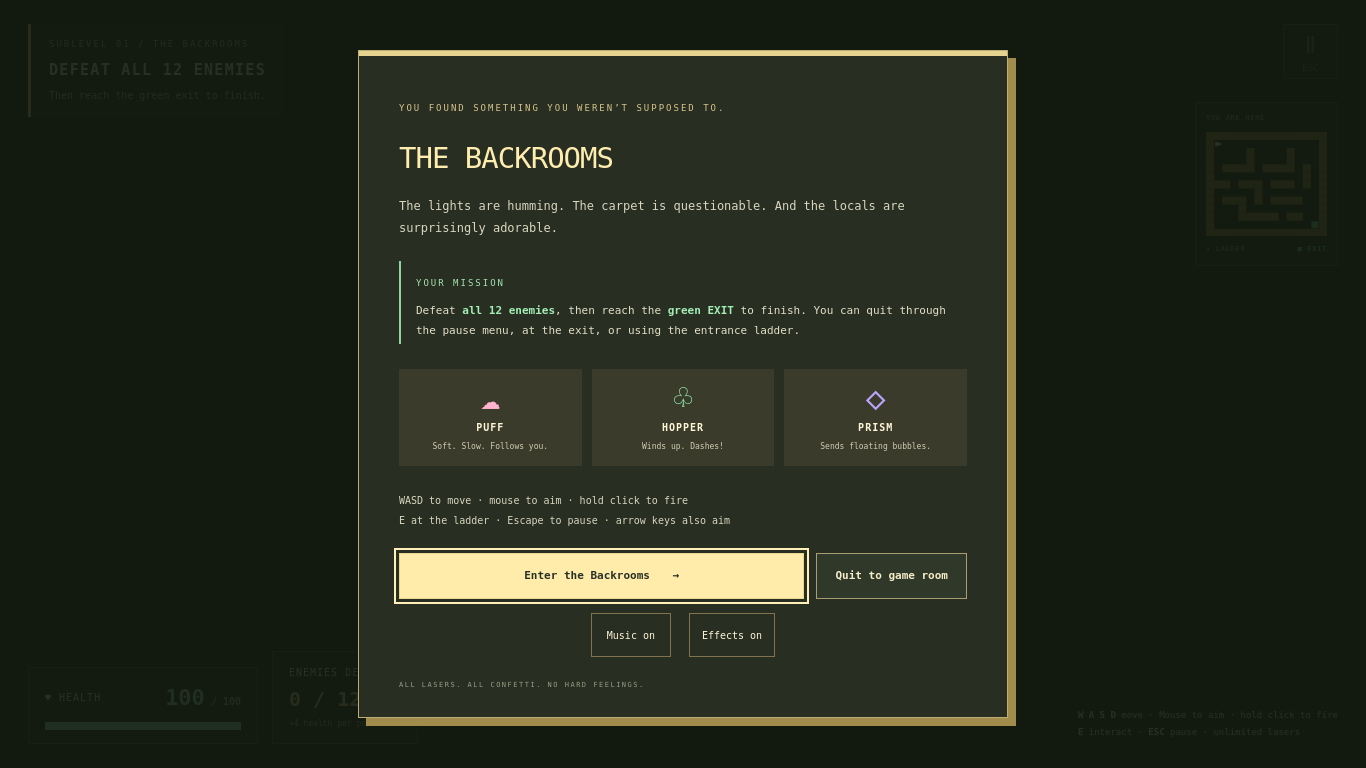
Test case: fire presses between animation frames › offers retry and quit after Bernard catches the player
This screenshot has width=1366, height=768.
What coordinates should you click on to do the following:
click the button "Enter the Backrooms →"
I would click on:
 (602, 576)
Its box is 399,552 -> 804,599.
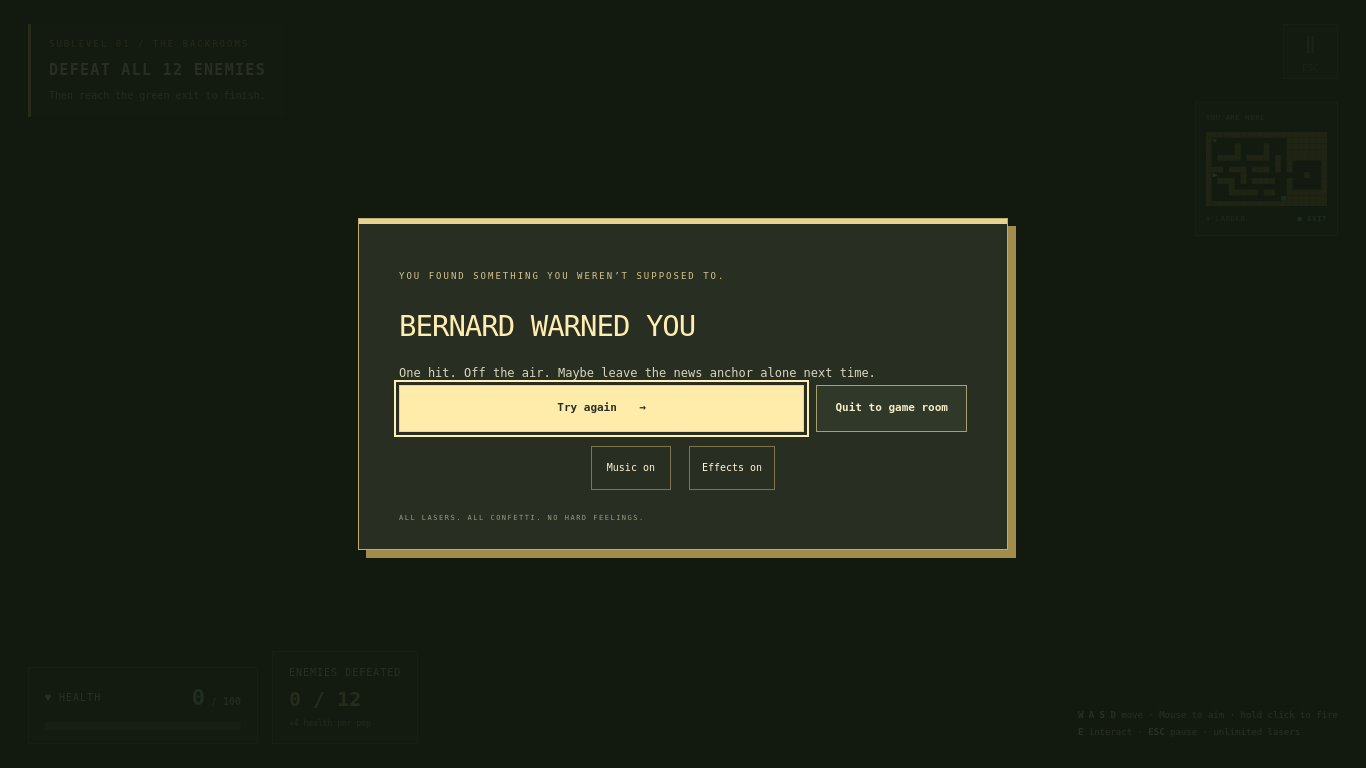
Expected: the button "Quit to game room" is shown, 816,385 -> 967,432
Result: the heading "BERNARD WARNED YOU" is shown at 399,309 -> 695,343
What coordinates should you click on to do the following:
click the button "Try again →"
I would click on:
 (602, 408)
Its box is 399,385 -> 804,432.
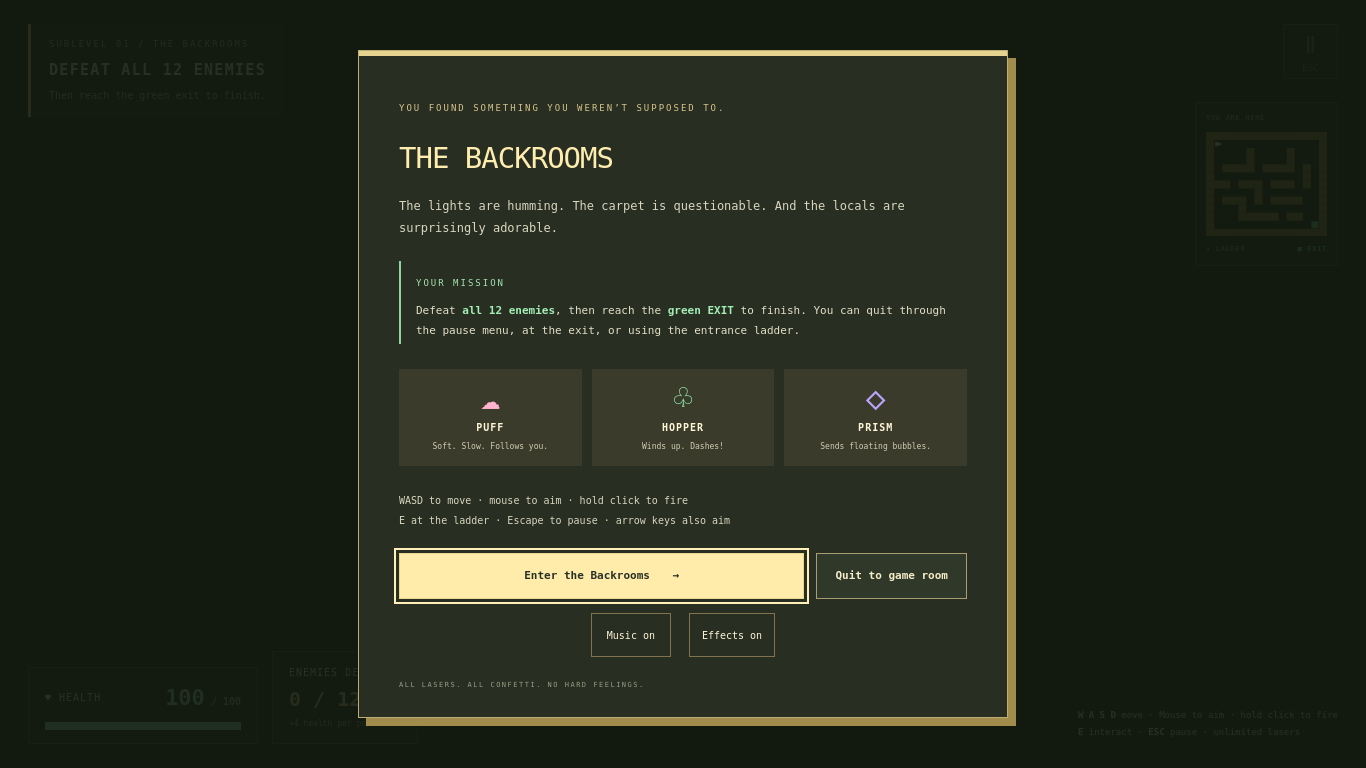
Result: the heading "THE BACKROOMS" is shown at 399,142 -> 613,176
